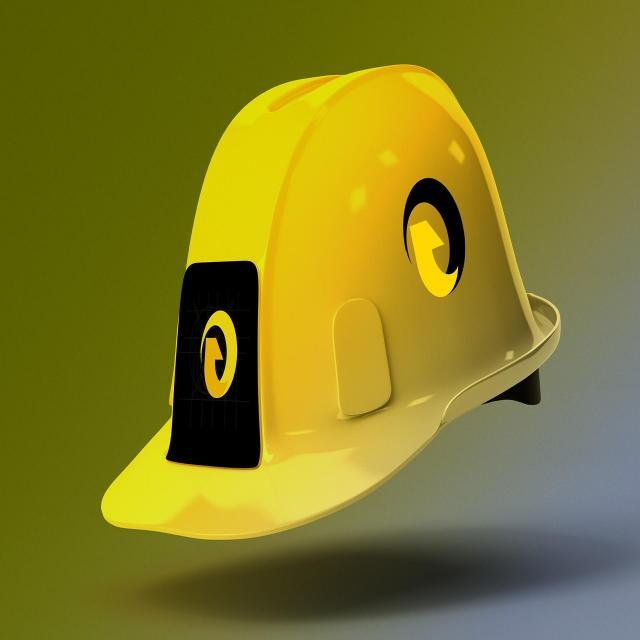helmet: (99, 67, 551, 537)
